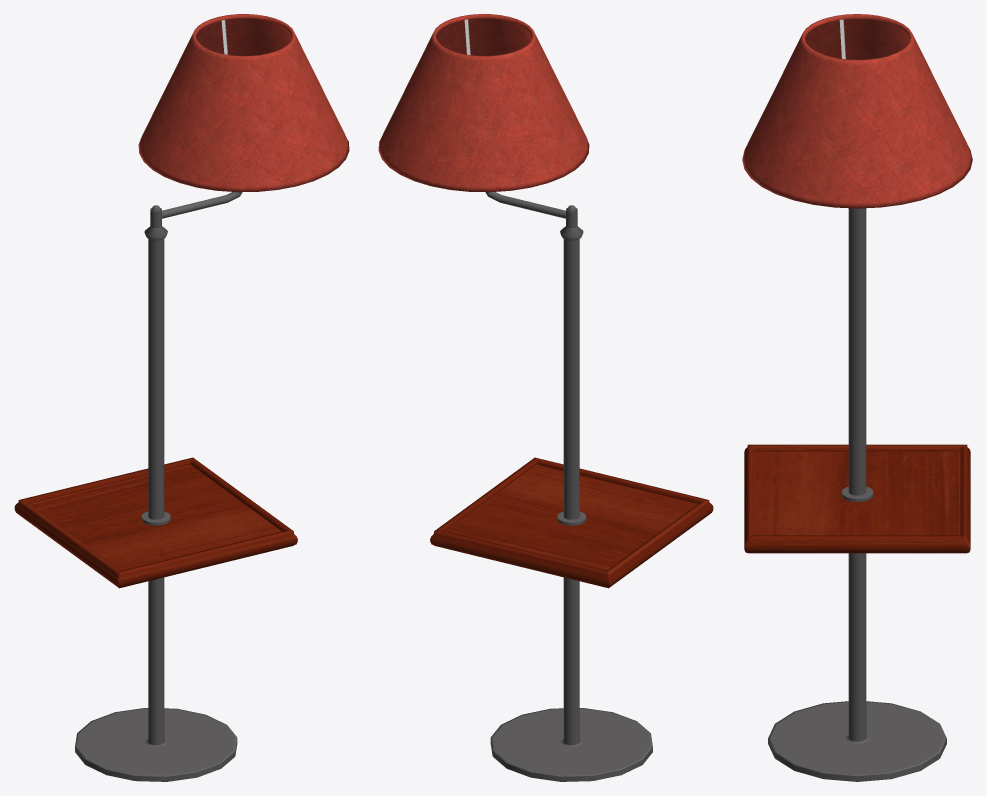
File: sweethome3d-scopia-lamp-86.glb
3 renders of one model, left to right at view 1: azimuth 30°, elevation 25°; view 2: azimuth 150°, elevation 25°; view 3: azimuth 270°, elevation 25°, orthographic. The views are drawn at different scales.
Parts seen in each view (by area): view 1: shade.001_Circle, littletable.001_Plane.002, bae.001_Cylinder.001; view 2: shade.001_Circle, littletable.001_Plane.002, bae.001_Cylinder.001; view 3: shade.001_Circle, littletable.001_Plane.002, bae.001_Cylinder.001.
Boxes of the visible parts, x1,y1,x2,y2 form: shade.001_Circle: (138, 14, 349, 192); littletable.001_Plane.002: (14, 457, 297, 588); bae.001_Cylinder.001: (75, 192, 242, 781); shade.001_Circle: (378, 14, 589, 192); littletable.001_Plane.002: (430, 457, 713, 588); bae.001_Cylinder.001: (485, 192, 652, 781); shade.001_Circle: (742, 14, 972, 208); littletable.001_Plane.002: (744, 444, 970, 553); bae.001_Cylinder.001: (768, 208, 946, 781).
Bounding box in the file's own units: 58.29 × 143 × 39.65.
5 materials, 2 textured.
